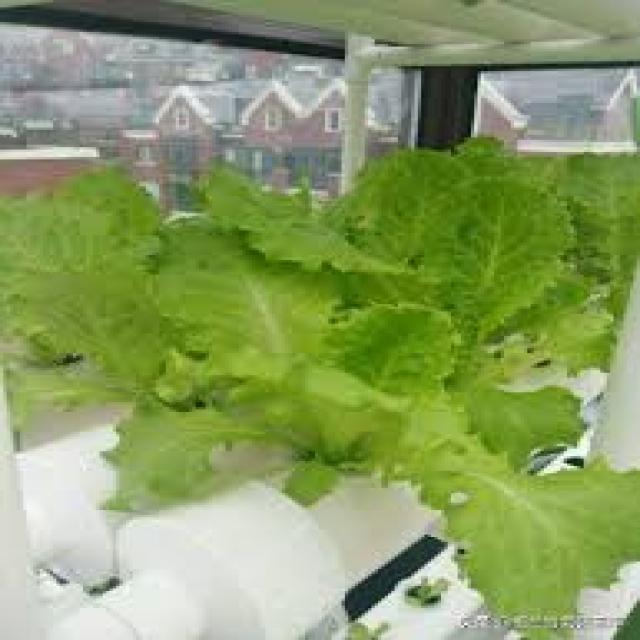BiologicalWaste: (55, 83, 640, 640)
